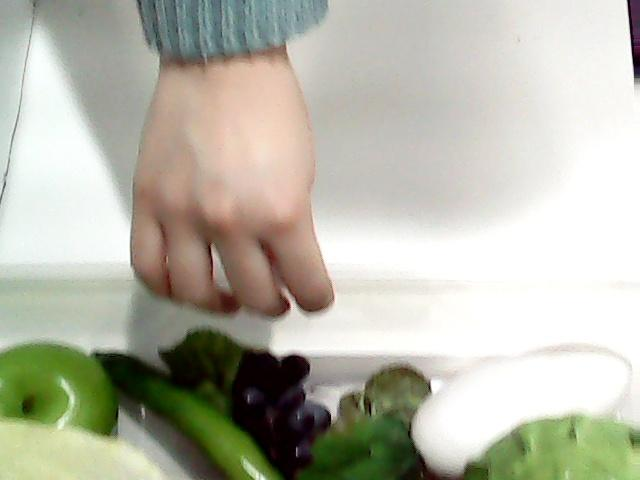apple: (0, 316, 124, 458)
cabbage: (460, 406, 640, 480)
grape: (246, 348, 330, 464)
napa cabbage: (0, 420, 172, 480)
pepper: (98, 332, 286, 480)
radish: (308, 344, 632, 480)
